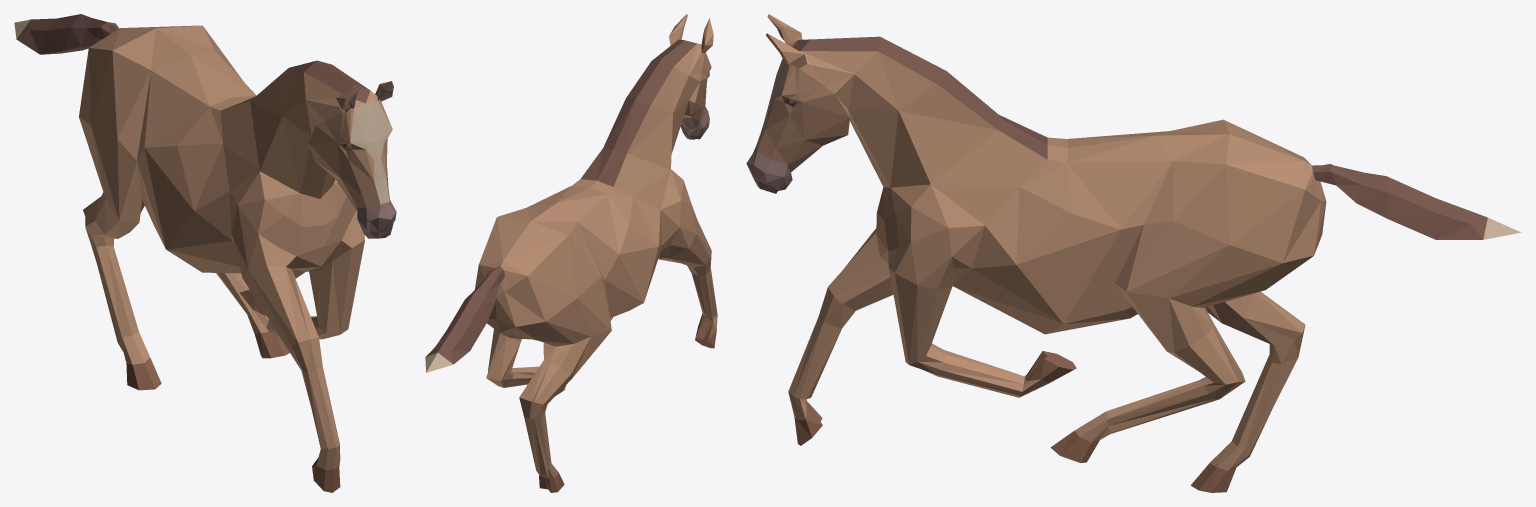
File: runninghorse.gltf
3 views of the same model, side by side, from view 1: azimuth 30°, elevation 25°; view 2: azimuth 150°, elevation 25°; view 3: azimuth 270°, elevation 25° (orthographic). The views are drawn at different scales.
Visible parts, largest first — view 1: mesh_0; view 2: mesh_0; view 3: mesh_0.
Part boxes in pixels (x1,y1,x2,y2): mesh_0: (14, 14, 396, 492); mesh_0: (425, 14, 717, 492); mesh_0: (746, 14, 1520, 492).
Bounding box in the file's own units: 63.7 × 189 × 278.
